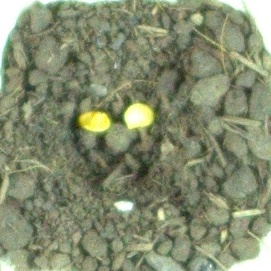pepper seed: (44, 35, 201, 165), (20, 41, 132, 175)
